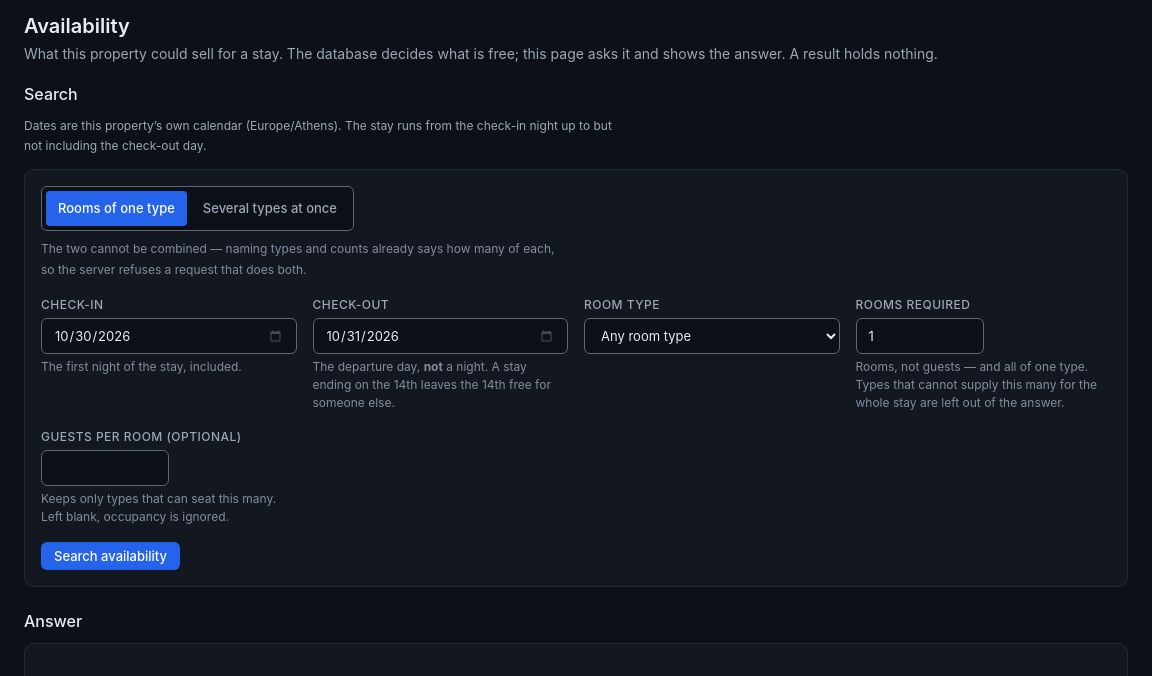
Test: a mixed request › refuses a type named twice, without a request
Expected: the date field labelled "Check-in" is shown, [41, 318, 296, 354]
Click the radio button labelled "Several types at once" at (270, 208), box [203, 200, 337, 216]
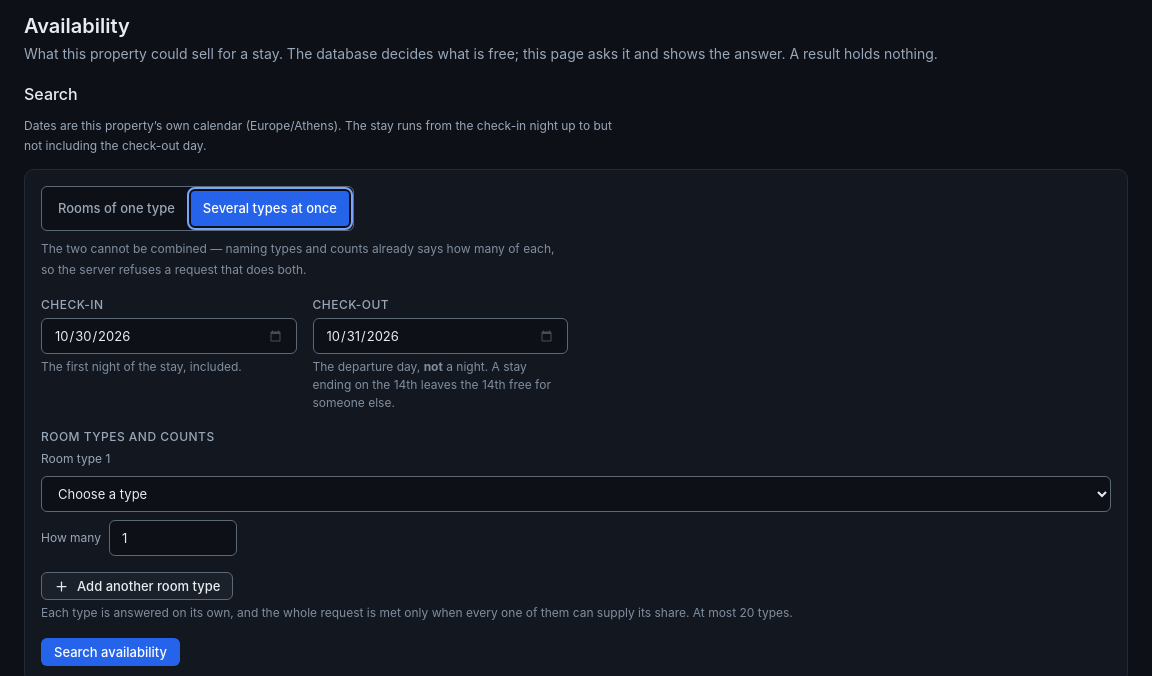
Select "Deluxe Sea View (DLX)" in the dropdown labelled "Room type 1" at (576, 494), box [41, 476, 1111, 512]
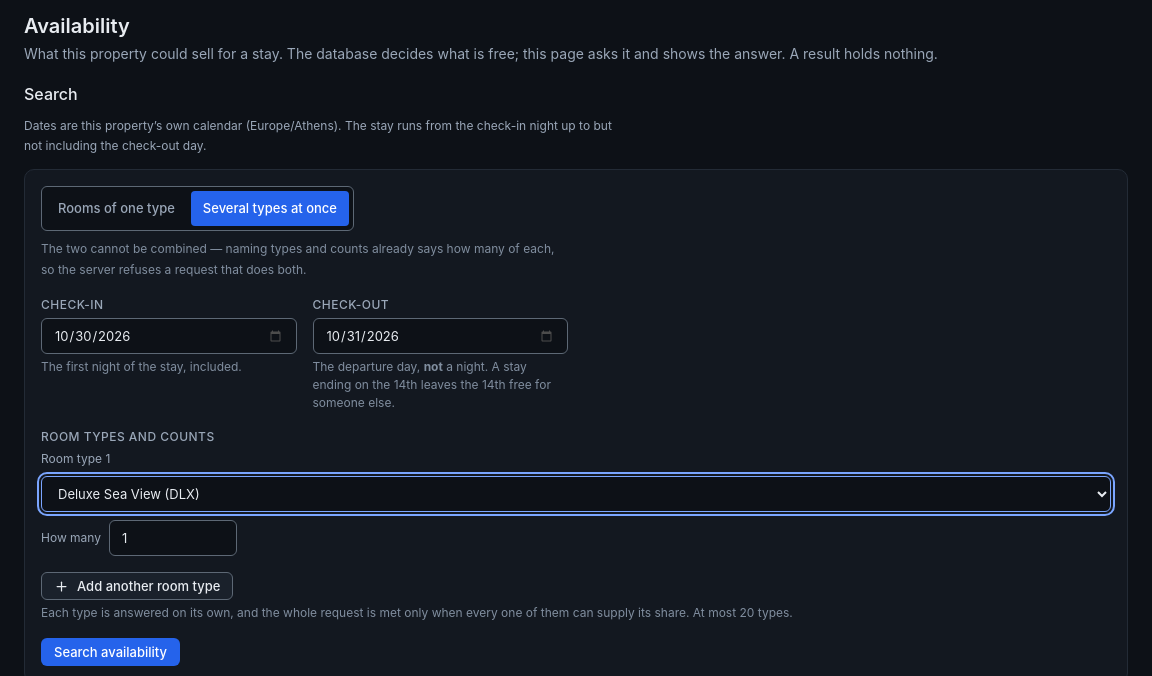
Click the button "Add another room type" at (137, 586), box [41, 572, 233, 600]
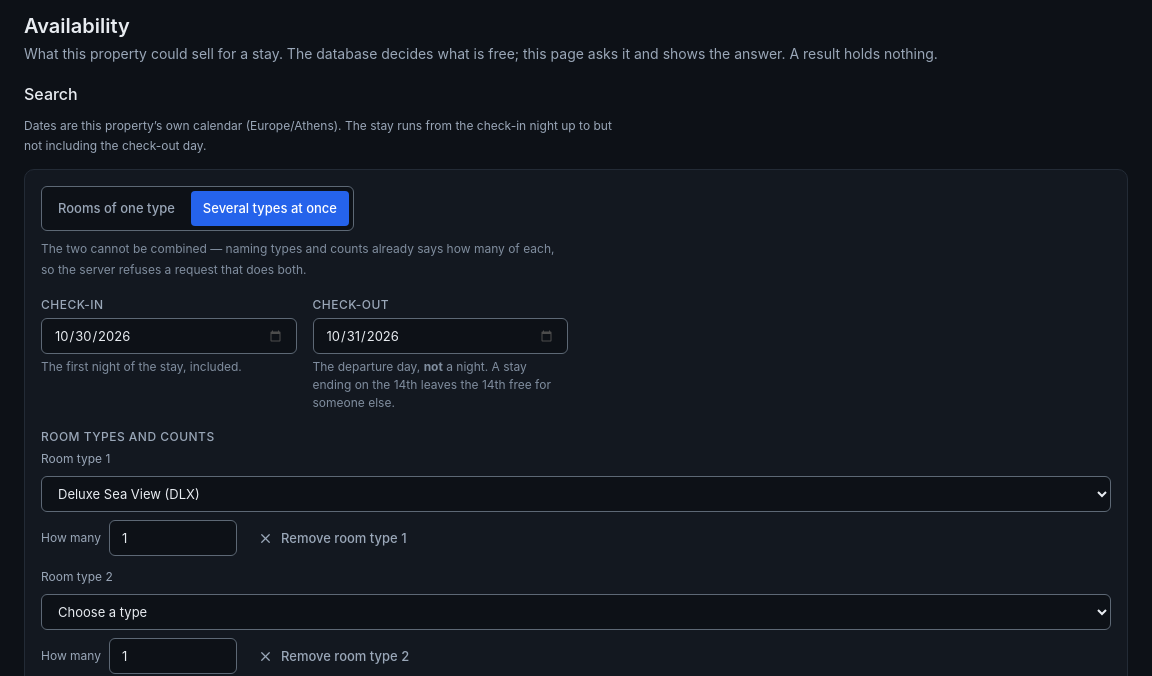
Select "Deluxe Sea View (DLX)" in the dropdown labelled "Room type 2" at (576, 612), box [41, 594, 1111, 630]
(page scrolled)
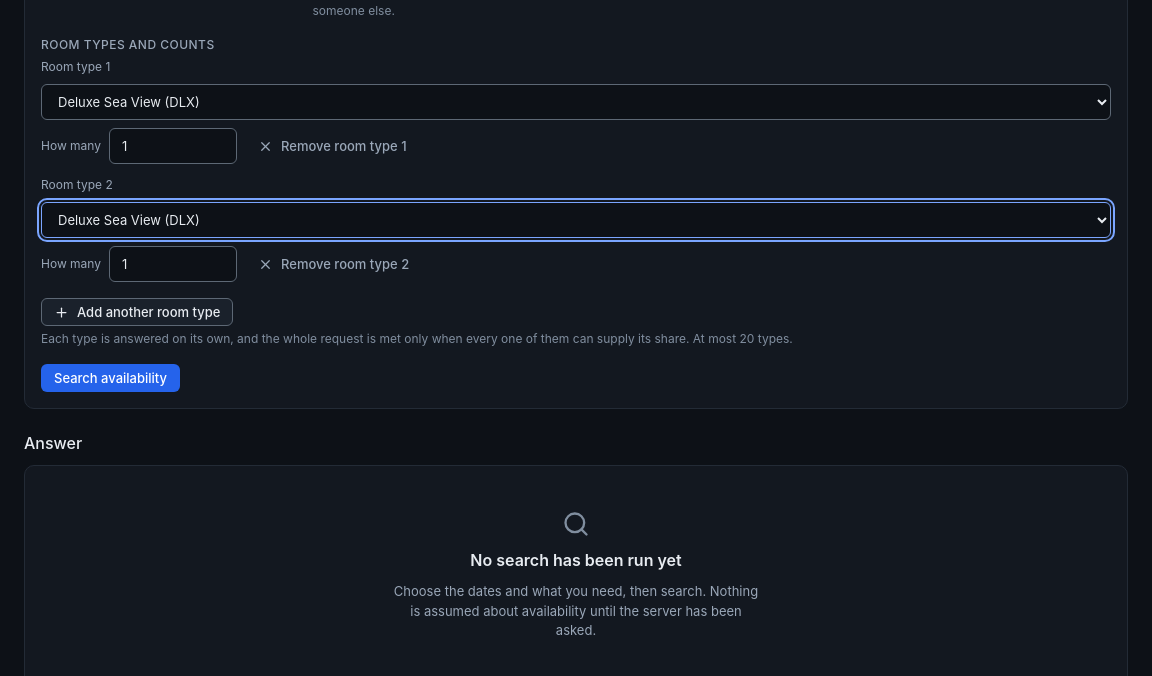
Click the button "Search availability" at (110, 378), box [41, 364, 180, 392]
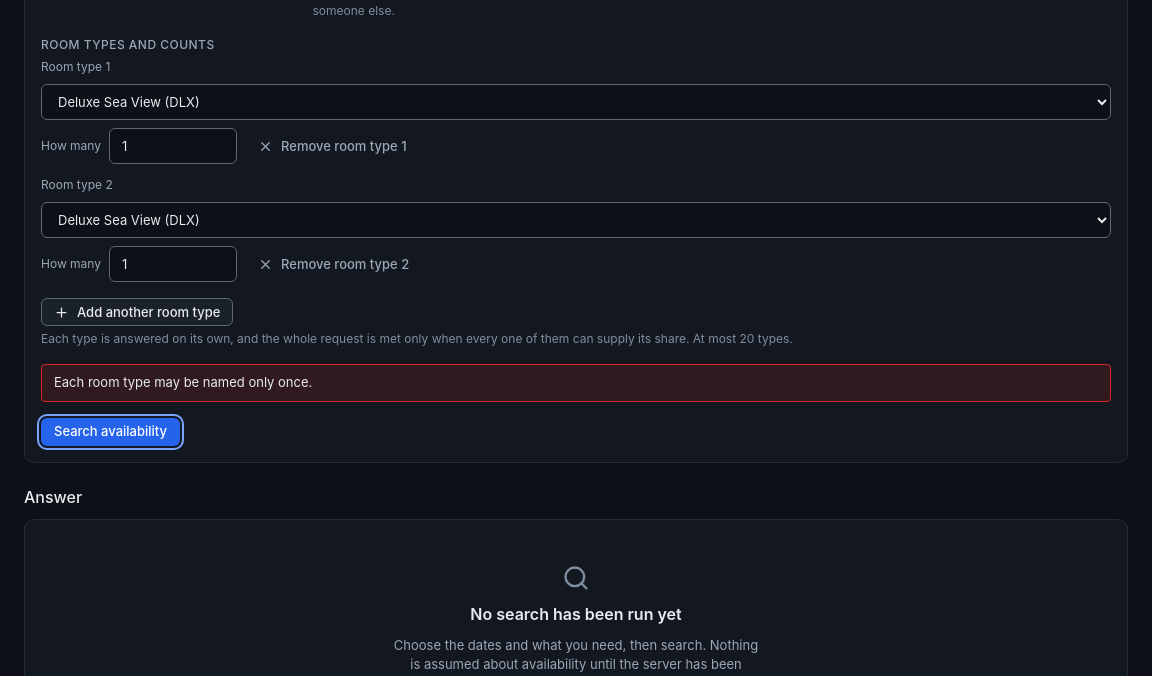
Now the message "Each room type may be named only once." shows "named only once", box [54, 374, 312, 390]
